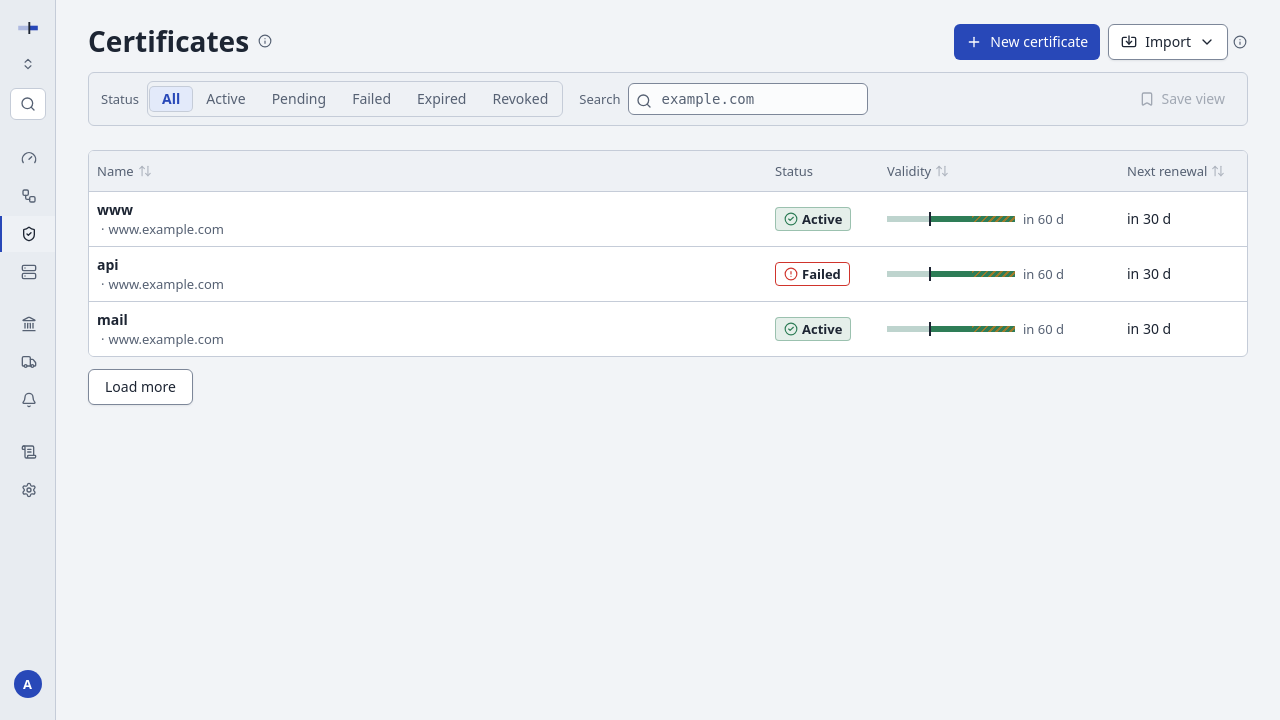
Scenario: resets to the first page and shows a notice when a cursor 422s
Click the button "Load more" at (140, 386), box x1=88 y1=368 x2=193 y2=404
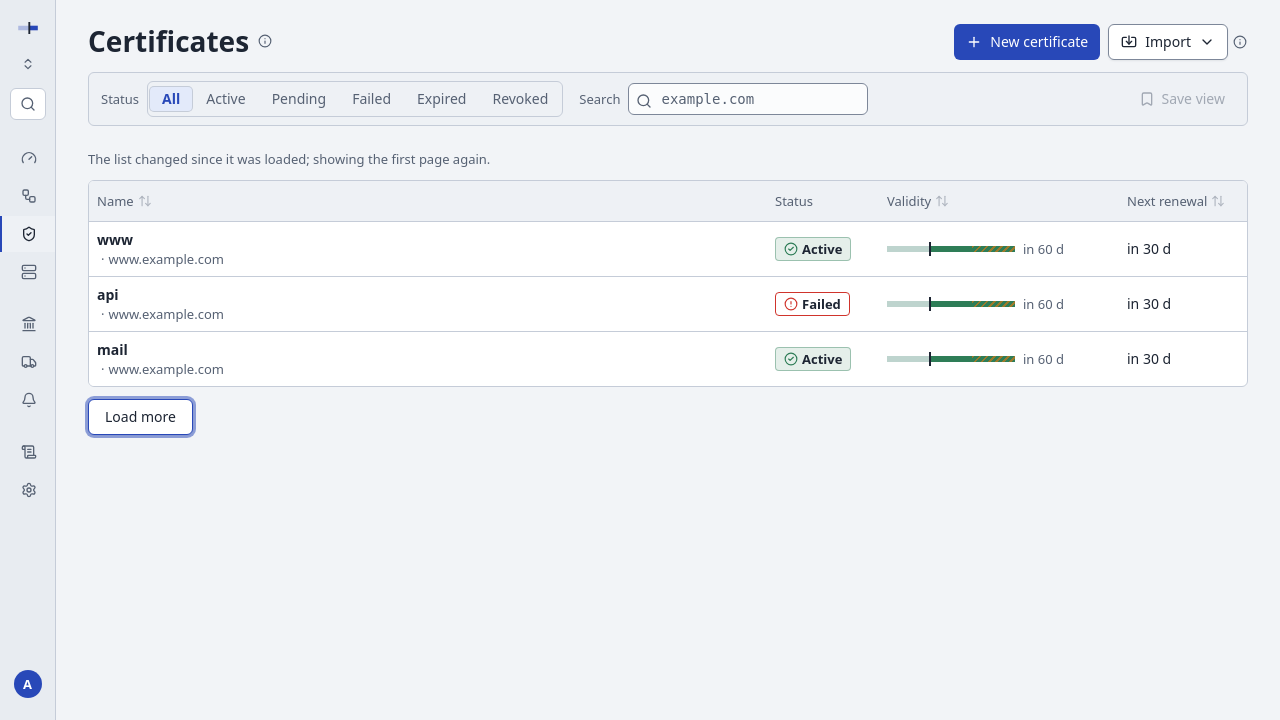
Expected: the link "www" is shown, x1=97 y1=230 x2=133 y2=248
Expected: the text "showing the first page again" is shown, x1=88 y1=150 x2=490 y2=168
